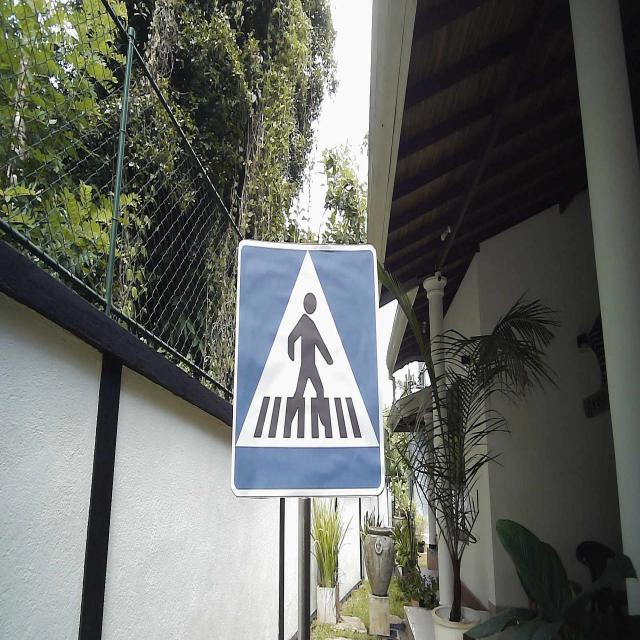crosswalk_sign: (230, 238, 386, 500)
